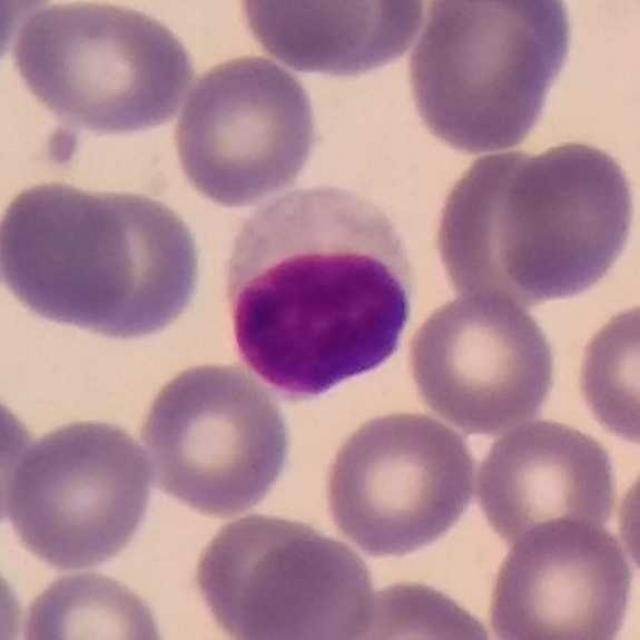Lymphocyte: (222, 181, 420, 405)
RBC: (400, 0, 581, 157), (49, 179, 208, 350), (7, 0, 199, 139), (135, 357, 296, 519), (428, 142, 570, 320), (2, 412, 158, 573), (318, 406, 481, 560), (168, 50, 324, 209), (494, 135, 639, 304), (0, 172, 142, 340), (402, 288, 561, 434), (471, 414, 621, 552), (483, 513, 638, 640), (229, 524, 381, 640), (191, 512, 334, 634), (324, 573, 502, 640), (233, 0, 385, 77), (16, 565, 170, 640), (570, 297, 640, 450), (0, 382, 46, 541), (0, 0, 60, 79), (613, 452, 640, 591), (0, 550, 29, 640)
